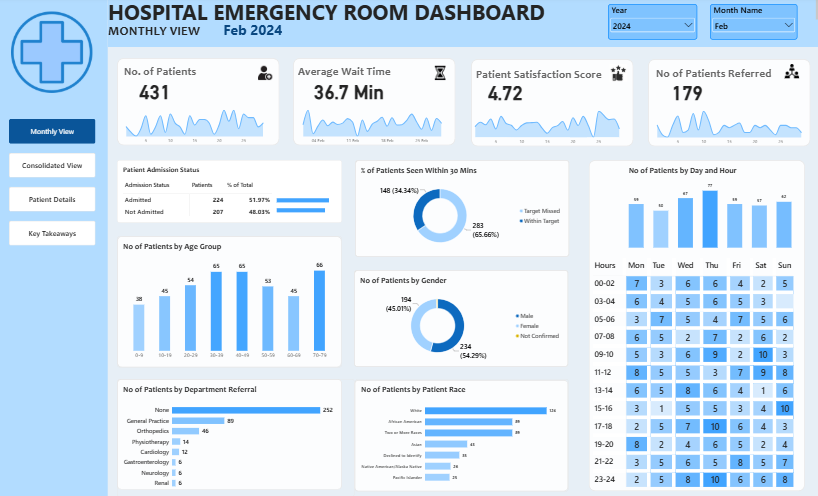

This screenshot's page, from the dashboard's own definition file:
{"tool":"powerbi","page":{"name":"Monthly View","canvas":[2300,1400],"ordinal":0},"visuals":[{"type":"shape","box":[0,0,310,1400],"z":0},{"type":"group","id":"g1","title":"Group 2","box":[1640,442.5,637.5,957.5],"z":0,"group":"g17"},{"type":"shape","box":[1640,442.5,637.5,957.5],"z":0,"group":"g1"},{"type":"group","id":"g2","title":"Group 2","box":[1001.2,455,600,271.5],"z":0,"group":"g14"},{"type":"shape","box":[1001.2,455,600,271.5],"z":0,"group":"g2"},{"type":"shape","box":[335.9,456,593.3,176],"z":0,"group":"g11"},{"type":"group","id":"g3","title":"Group 2","box":[336,668.2,629.2,368],"z":0,"group":"g12"},{"type":"shape","box":[336,668.2,629.2,368],"z":0,"group":"g3"},{"type":"group","id":"g4","title":"Group 2","box":[1000,765,600,271.5],"z":0,"group":"g15"},{"type":"shape","box":[1000,765,600,271.5],"z":0,"group":"g4"},{"type":"shape","box":[335,1070,630,310],"z":0,"group":"g5"},{"type":"group","id":"g5","title":"Group 2","box":[335,1070,630,310],"z":0,"group":"g13"},{"type":"group","id":"g6","title":"Group 2","box":[1000,1072.5,600,311.8],"z":0,"group":"g16"},{"type":"shape","box":[1000,1072.5,600,311.8],"z":0,"group":"g6"},{"type":"shape","box":[310,0,1990,140],"z":1000},{"type":"pivotTable","title":"Patient Admission Status","fields":{"Rows":["Hospital ER_Data.Admission Status"],"Values":["Hospital ER_Data.No of Patients1","Hospital ER_Data.No of Patients"]},"box":[335,455,630,176],"z":1000,"group":"g11"},{"type":"clusteredColumnChart","fields":{"Category":["Hospital ER_Data.Age Group"],"Y":["Hospital ER_Data.No of Patients"]},"box":[335,669.2,630,367.5],"z":1000,"group":"g12"},{"type":"textbox","box":[310,0,1990,70],"z":2000},{"type":"barChart","fields":{"Category":["Hospital ER_Data.Admission Status"],"Y":["Hospital ER_Data.No of Patients"]},"box":[767,525,228,110],"z":2000,"group":"g11"},{"type":"textbox","box":[310,70,332.5,57.5],"z":3000},{"type":"slicer","fields":{"Values":["Date Table.Month Name"]},"box":[1997.5,20,245,100],"z":4000},{"type":"cardVisual","fields":{"Rows":["Date Table.Month & Year"]},"box":[622.5,40,752.5,100],"z":5000},{"type":"shape","box":[335,170,455,244.9],"z":5000,"group":"g7"},{"type":"shape","box":[830.9,170,455,244.9],"z":5000,"group":"g8"},{"type":"shape","box":[1326.6,172.5,455,244.9],"z":5000,"group":"g9"},{"type":"shape","box":[1822.5,172.5,455,244.9],"z":5000,"group":"g10"},{"type":"group","id":"g7","title":"Group 1","box":[335,170,455,259],"z":6000},{"type":"cardVisual","fields":{"Data":["Hospital ER_Data.No of Patients"]},"box":[355,219.4,172.5,89.5],"z":6000,"group":"g7"},{"type":"cardVisual","fields":{"Data":["Hospital ER_Data.Average Wait Time"]},"box":[858.8,220,257.5,90],"z":6000,"group":"g8"},{"type":"cardVisual","fields":{"Data":["Avg(Hospital ER_Data.Patient Satisfaction Score)"]},"box":[1334.2,221.9,180.4,89.5],"z":6000,"group":"g9"},{"type":"cardVisual","fields":{"Data":["Hospital ER_Data.No of Patients Referred"]},"box":[1843.4,221.9,180.4,89.5],"z":6000,"group":"g10"},{"type":"group","id":"g8","title":"Group 1","box":[824.2,170,461.7,259],"z":7000},{"type":"textbox","box":[355,186.5,267.5,63.6],"z":7000,"group":"g7"},{"type":"textbox","box":[845.1,186.5,279.8,63.6],"z":7000,"group":"g8"},{"type":"textbox","box":[1843.7,191.3,357.5,62.5],"z":7000,"group":"g10"},{"type":"textbox","box":[1340,196.3,412.5,60],"z":7000,"group":"g9"},{"type":"group","id":"g9","title":"Group 1","box":[1313.3,172.5,468.3,259],"z":8000},{"type":"areaChart","fields":{"Category":["Date Table.Date.Variation.Date Hierarchy.Day"],"Y":["Hospital ER_Data.No of Patients"]},"box":[335,292.4,435,136.6],"z":8000,"group":"g7"},{"type":"areaChart","fields":{"Category":["Date Table.Date.Variation.Date Hierarchy.Year","Date Table.Date.Variation.Date Hierarchy.Quarter","Date Table.Date.Variation.Date Hierarchy.Month","Date Table.Date.Variation.Date Hierarchy.Day"],"Y":["Avg(Hospital ER_Data.Patient Waittime)"]},"box":[824.2,292.4,455,136.6],"z":8000,"group":"g8"},{"type":"areaChart","fields":{"Category":["Date Table.Date.Variation.Date Hierarchy.Day"],"Y":["Avg(Hospital ER_Data.Patient Satisfaction Score)"]},"box":[1313.3,294.9,455,136.6],"z":8000,"group":"g9"},{"type":"areaChart","fields":{"Category":["Date Table.Date.Variation.Date Hierarchy.Day"],"Y":["Hospital ER_Data.No of Patients Referred"]},"box":[1822.5,294.9,455,136.6],"z":8000,"group":"g10"},{"type":"group","id":"g10","title":"Group 1","box":[1822.5,172.5,455,259],"z":9000},{"type":"group","id":"g11","title":"Group 2","box":[335,455,660,180],"z":10000},{"type":"group","id":"g12","title":"Group 3","box":[335,668.2,630.2,368.5],"z":11000},{"type":"group","id":"g13","title":"Group 3","box":[335,1070,630,310],"z":12000},{"type":"clusteredBarChart","fields":{"Category":["Hospital ER_Data.Department Referral"],"Y":["Hospital ER_Data.No of Patients"]},"box":[335,1070,665,330],"z":13000},{"type":"group","id":"g14","title":"Group 3","box":[1001.2,455,600,270],"z":13500,"group":"g18"},{"type":"group","id":"g15","title":"Group 3","box":[1000,765,600,270],"z":13500,"group":"g19"},{"type":"group","id":"g16","title":"Group 3","box":[1000,1072.5,600,310],"z":13500,"group":"g20"},{"type":"group","id":"g17","title":"Group 3","box":[1640,442.5,637.5,957.5],"z":14000},{"type":"donutChart","title":"% of Patients Seen Within 30 Mins","fields":{"Category":["Hospital ER_Data.Waittime Status"],"Y":["Hospital ER_Data.No of Patients"]},"box":[1001.2,455,600,270],"z":14000,"group":"g18"},{"type":"donutChart","title":"No of Patients by Gender","fields":{"Category":["Hospital ER_Data.Patient Gender"],"Y":["Hospital ER_Data.No of Patients"]},"box":[1000,765,600,270],"z":14000,"group":"g19"},{"type":"pivotTable","fields":{"Columns":["Date Table.Day Name"],"Rows":["Hospital ER_Data.Waittime Interval"],"Values":["Hospital ER_Data.No of Patients"]},"box":[1650,716.3,615,682.5],"z":14005,"group":"g17"},{"type":"group","id":"g18","title":"Group 4","box":[1001.2,455,600,270],"z":15000},{"type":"group","id":"g19","title":"Group 4","box":[1000,765,600,270],"z":16000},{"type":"group","id":"g20","title":"Group 4","box":[1000,1072.5,600,310],"z":17000},{"type":"clusteredBarChart","fields":{"Category":["Hospital ER_Data.Patient Race"],"Y":["Hospital ER_Data.No of Patients"]},"box":[1002.5,1070,597.5,315],"z":18000},{"type":"slicer","fields":{"Values":["Date Table.Year"]},"box":[1710,20,250,100],"z":19000},{"type":"columnChart","title":"No of Patients by Day and Hour","fields":{"Category":["Date Table.Day Name"],"Y":["Hospital ER_Data.No of Patients"]},"box":[1752.5,456.3,490,262.5],"z":19001,"group":"g1"},{"type":"image","box":[40,20,227.5,270],"z":20000},{"type":"image","box":[730,187.5,40,50],"z":21000},{"type":"image","box":[1220,187.5,40,50],"z":22000},{"type":"image","box":[1710,187.5,57.5,50],"z":23000},{"type":"image","box":[2200,187.5,50,40],"z":24000},{"type":"pageNavigator","box":[32.5,342.5,242.5,357.5],"z":25000}]}

Visuals, with their boxes in screenshot pixels (x1, y1, x2, y2), scaled from the page's 2300x1400 canvas onto the 818x496 screenshot:
shape: (0,0,110,495)
"Group 2" group: (583,157,810,495)
shape: (583,157,810,495)
"Group 2" group: (356,161,569,257)
shape: (356,161,569,257)
shape: (119,162,330,224)
"Group 2" group: (119,237,343,367)
shape: (119,237,343,367)
"Group 2" group: (356,271,569,367)
shape: (356,271,569,367)
shape: (119,379,343,489)
"Group 2" group: (119,379,343,489)
"Group 2" group: (356,380,569,490)
shape: (356,380,569,490)
shape: (110,0,817,50)
"Patient Admission Status" pivotTable: (119,161,343,224)
clusteredColumnChart - Hospital ER_Data.Age Group x Hospital ER_Data.No of Patients: (119,237,343,367)
textbox: (110,0,817,25)
barChart - Hospital ER_Data.Admission Status x Hospital ER_Data.No of Patients: (273,186,354,225)
textbox: (110,25,229,45)
slicer - Date Table.Month Name: (710,7,798,43)
cardVisual - Date Table.Month & Year: (221,14,489,50)
shape: (119,60,281,147)
shape: (296,60,457,147)
shape: (472,61,634,148)
shape: (648,61,810,148)
"Group 1" group: (119,60,281,152)
cardVisual - Hospital ER_Data.No of Patients: (126,78,188,109)
cardVisual - Hospital ER_Data.Average Wait Time: (305,78,397,110)
cardVisual - Avg(Hospital ER_Data.Patient Satisfaction Score): (475,79,539,110)
cardVisual - Hospital ER_Data.No of Patients Referred: (656,79,720,110)
"Group 1" group: (293,60,457,152)
textbox: (126,66,221,89)
textbox: (301,66,400,89)
textbox: (656,68,783,90)
textbox: (477,70,623,91)
"Group 1" group: (467,61,634,153)
areaChart - Date Table.Date.Variation.Date Hierarchy.Day x Hospital ER_Data.No of Patients: (119,104,274,152)
areaChart - Date Table.Date.Variation.Date Hierarchy.Year x Date Table.Date.Variation.Date Hierarchy.Quarter: (293,104,455,152)
areaChart - Date Table.Date.Variation.Date Hierarchy.Day x Avg(Hospital ER_Data.Patient Satisfaction Score): (467,104,629,153)
areaChart - Date Table.Date.Variation.Date Hierarchy.Day x Hospital ER_Data.No of Patients Referred: (648,104,810,153)
"Group 1" group: (648,61,810,153)
"Group 2" group: (119,161,354,225)
"Group 3" group: (119,237,343,367)
"Group 3" group: (119,379,343,489)
clusteredBarChart - Hospital ER_Data.Department Referral x Hospital ER_Data.No of Patients: (119,379,356,495)
"Group 3" group: (356,161,569,257)
"Group 3" group: (356,271,569,367)
"Group 3" group: (356,380,569,490)
"Group 3" group: (583,157,810,495)
"% of Patients Seen Within 30 Mins" donutChart: (356,161,569,257)
"No of Patients by Gender" donutChart: (356,271,569,367)
pivotTable - Date Table.Day Name x Hospital ER_Data.Waittime Interval: (587,254,806,495)
"Group 4" group: (356,161,569,257)
"Group 4" group: (356,271,569,367)
"Group 4" group: (356,380,569,490)
clusteredBarChart - Hospital ER_Data.Patient Race x Hospital ER_Data.No of Patients: (357,379,569,491)
slicer - Date Table.Year: (608,7,697,43)
"No of Patients by Day and Hour" columnChart: (623,162,798,255)
image: (14,7,95,103)
image: (260,66,274,84)
image: (434,66,448,84)
image: (608,66,629,84)
image: (782,66,800,81)
pageNavigator: (12,121,98,248)
